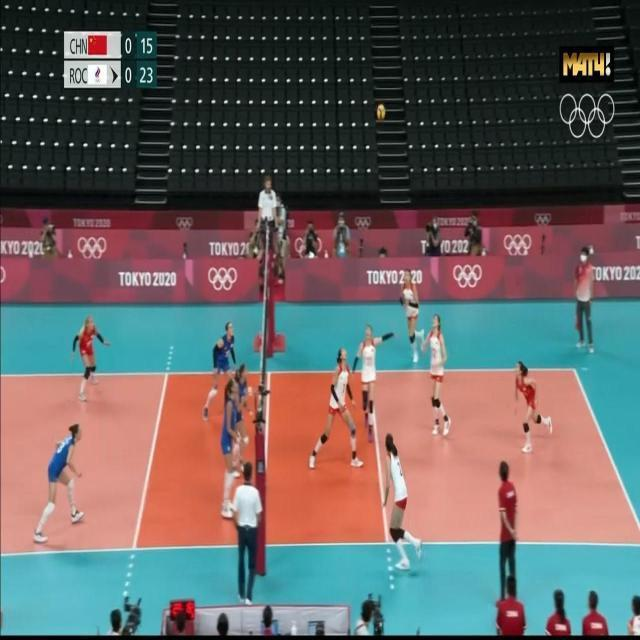volleyball: (376, 104, 386, 119)
